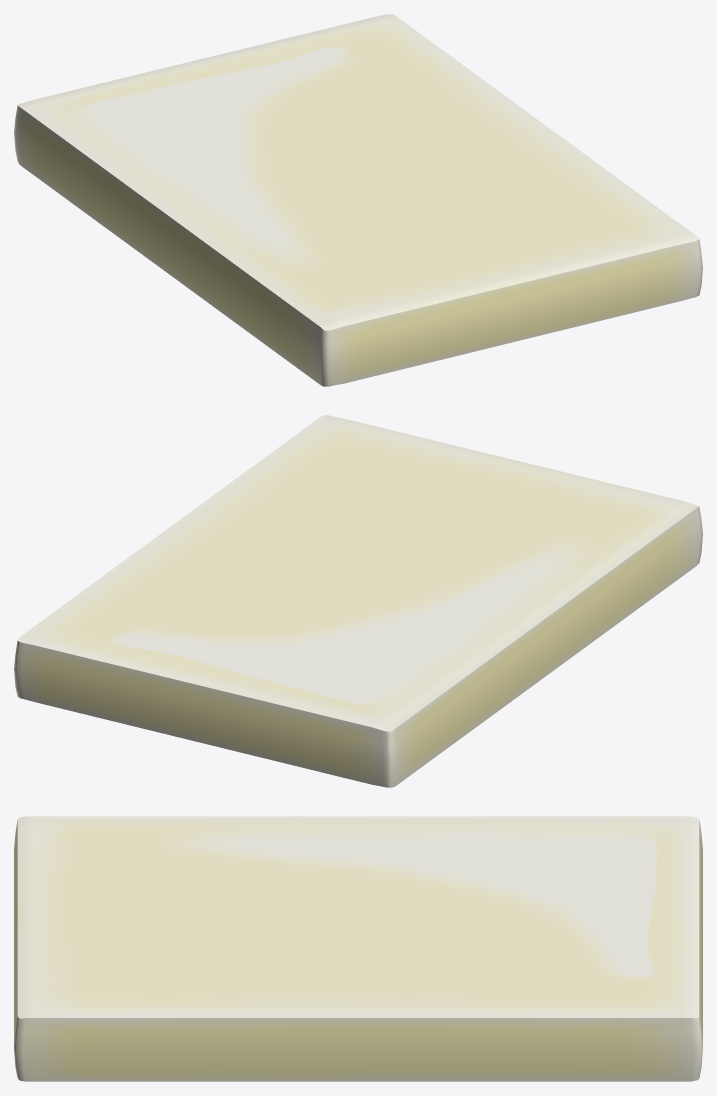
File: Fllor_TOFU.fbx
The picture shows the model from 3 angles, top to bottom: view 1: azimuth 30°, elevation 25°; view 2: azimuth 150°, elevation 25°; view 3: azimuth 270°, elevation 25°; orthographic projection. The views are drawn at different scales.
Parts seen in each view (by area): view 1: pCube1; view 2: pCube1; view 3: pCube1.
Boxes of the visible parts, box(x1,y1,x2,y2) form: pCube1: box(14, 14, 702, 386); pCube1: box(14, 415, 702, 787); pCube1: box(14, 816, 702, 1081).
Size of the model in its own units: 707 by 106 by 1010.
